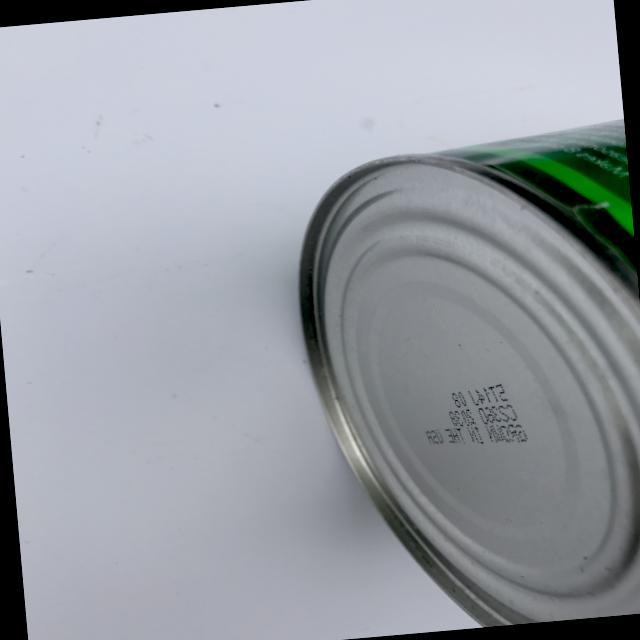Metal: (275, 104, 640, 640)
